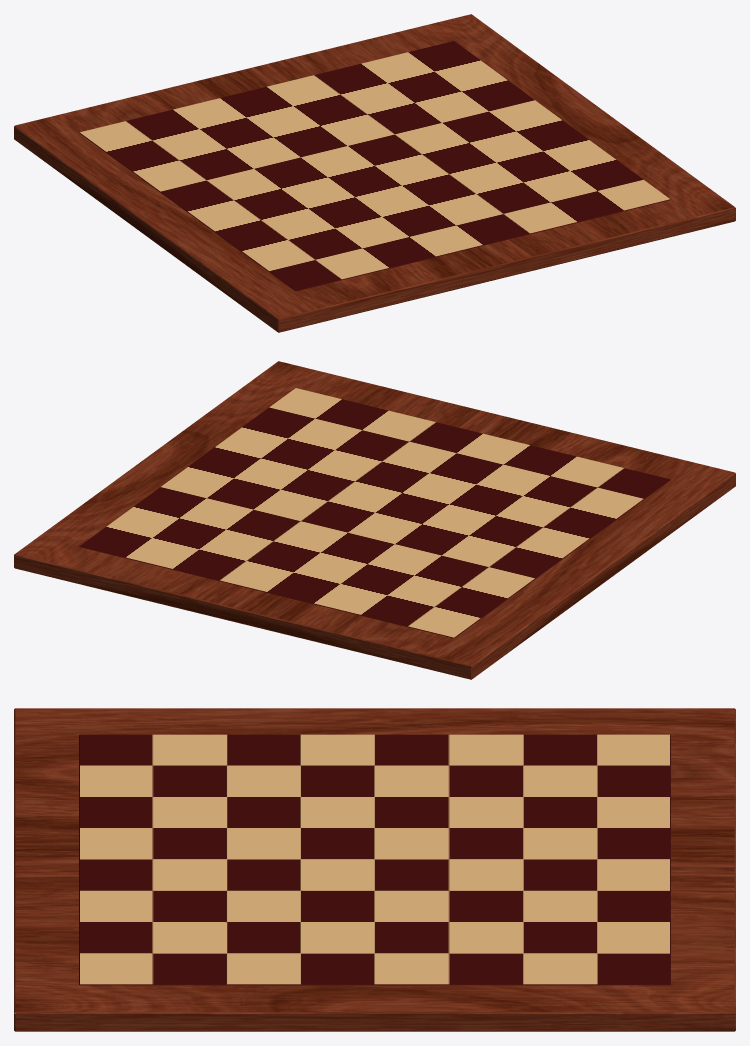
The model's file is WoodenChessBoard.fbx.
The picture shows the model from 3 angles, top to bottom: view 1: azimuth 30°, elevation 25°; view 2: azimuth 150°, elevation 25°; view 3: azimuth 270°, elevation 25°; orthographic projection. The views are drawn at different scales.
Visible parts, largest first — view 1: ChessBoardBase; view 2: ChessBoardBase; view 3: ChessBoardBase.
Part boxes in pixels (x1,y1,x2,y2): ChessBoardBase: (14,14,735,332); ChessBoardBase: (14,361,735,679); ChessBoardBase: (14,708,735,1031).
Size of the model in its own units: 10 by 0.3103 by 10.
